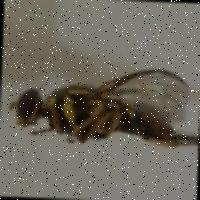Oriental-fruit-fly: (0, 52, 200, 179)
